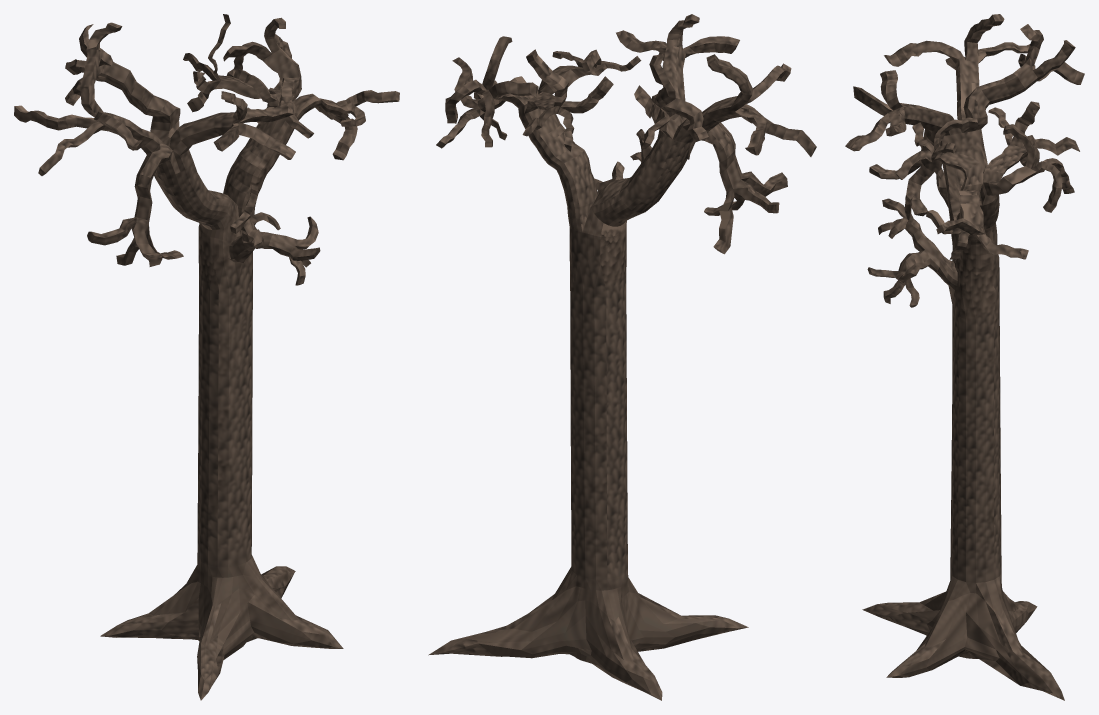
The model's file is TreePls.fbx.
3 views of the same model, side by side, from view 1: azimuth 30°, elevation 25°; view 2: azimuth 150°, elevation 25°; view 3: azimuth 270°, elevation 25° (orthographic). The views are drawn at different scales.
Visible parts, largest first — view 1: Cylinder; view 2: Cylinder; view 3: Cylinder.
Part boxes in pixels (x1,y1,x2,y2): Cylinder: (14, 14, 399, 700); Cylinder: (428, 14, 816, 700); Cylinder: (845, 14, 1084, 700).
Size of the model in its own units: 1491 by 2488 by 922.
Materials: 1 (1 with a texture image).
